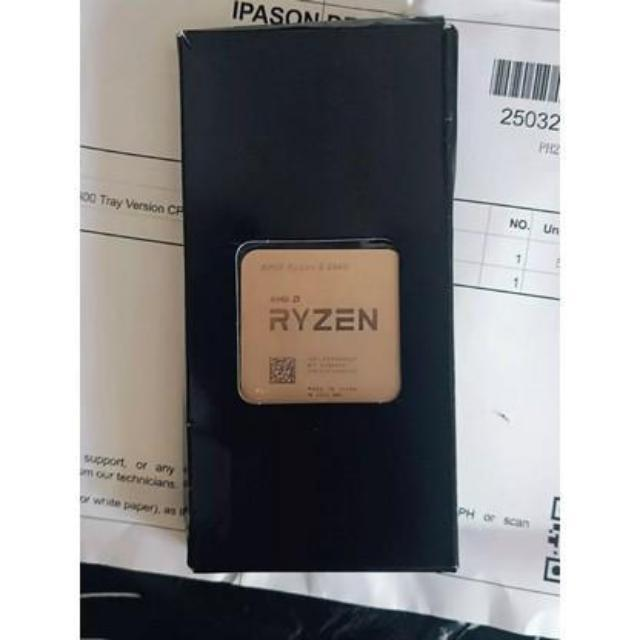CPU: (236, 243, 399, 403)
